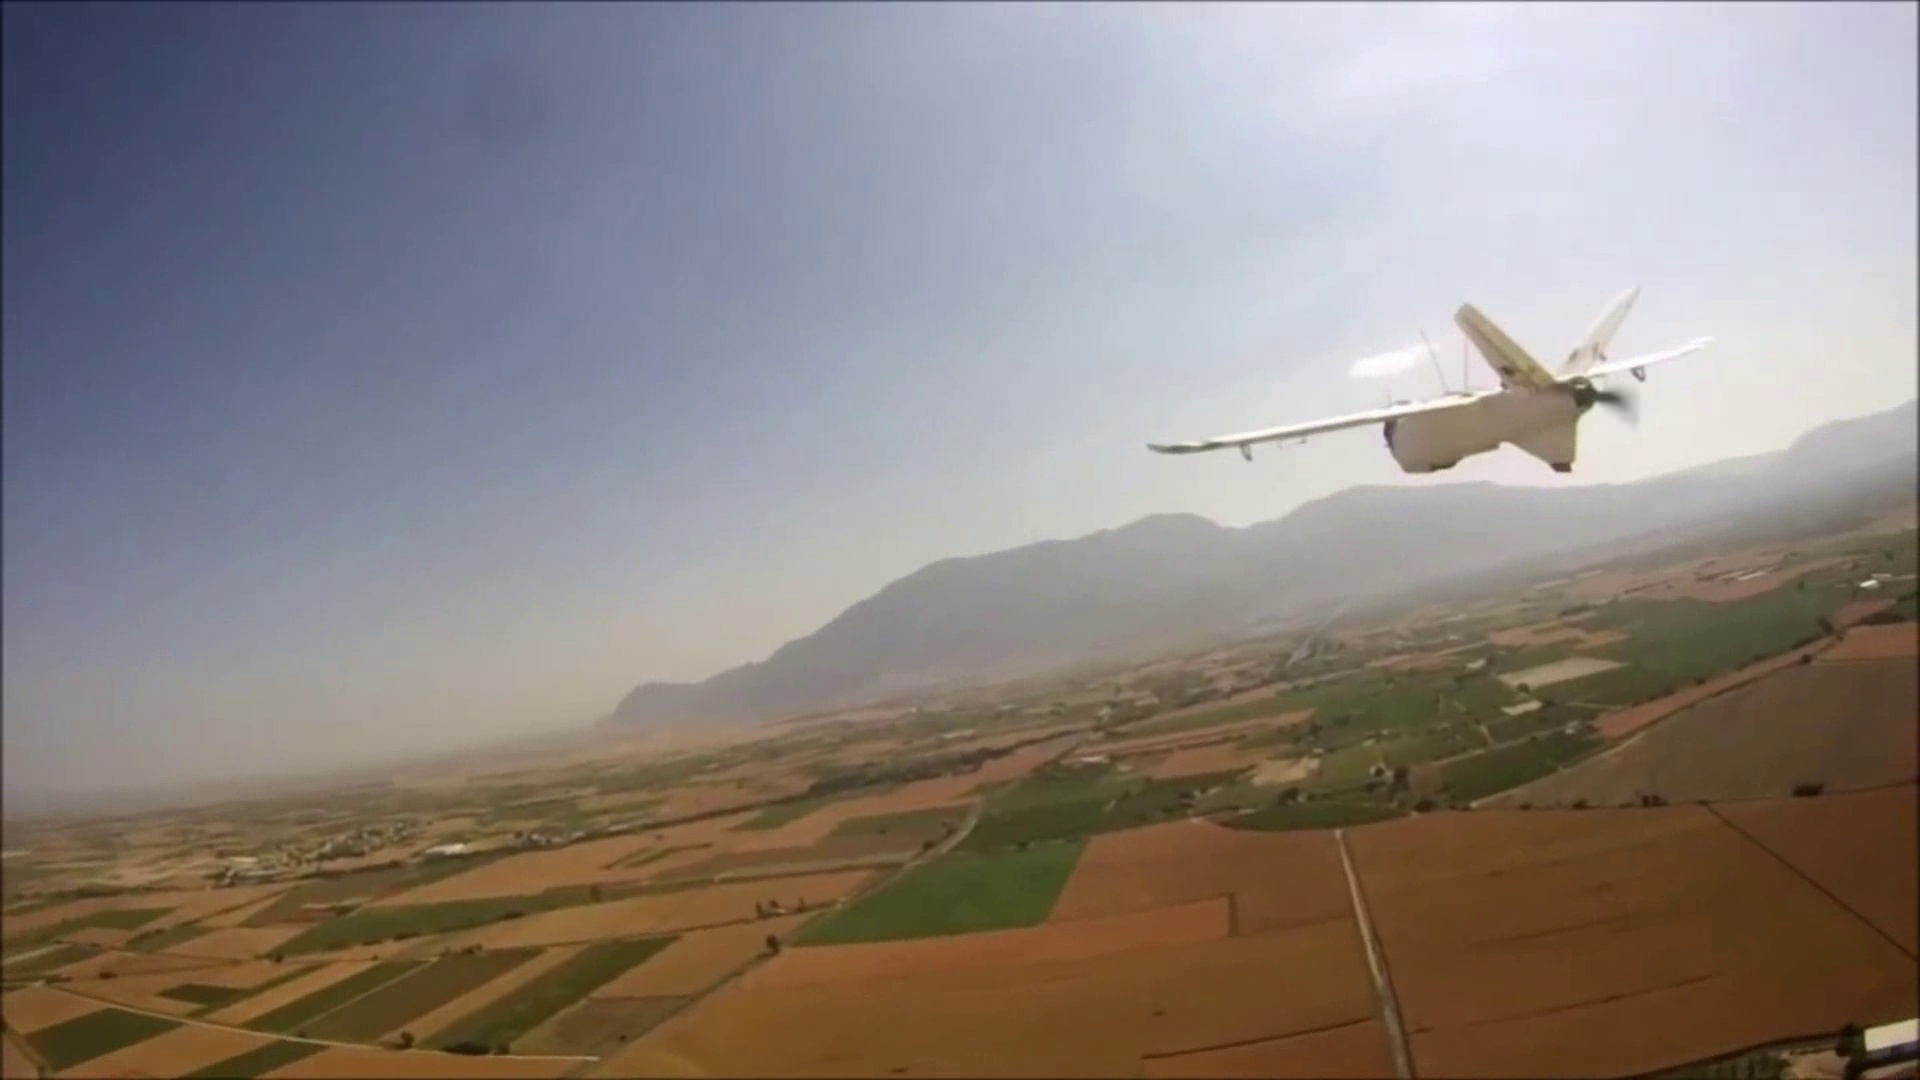airplane: (1147, 287, 1716, 477)
